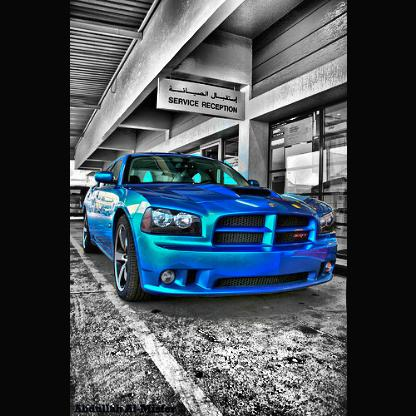Dodge Charger SRT-8 2009: (80, 150, 341, 306)
